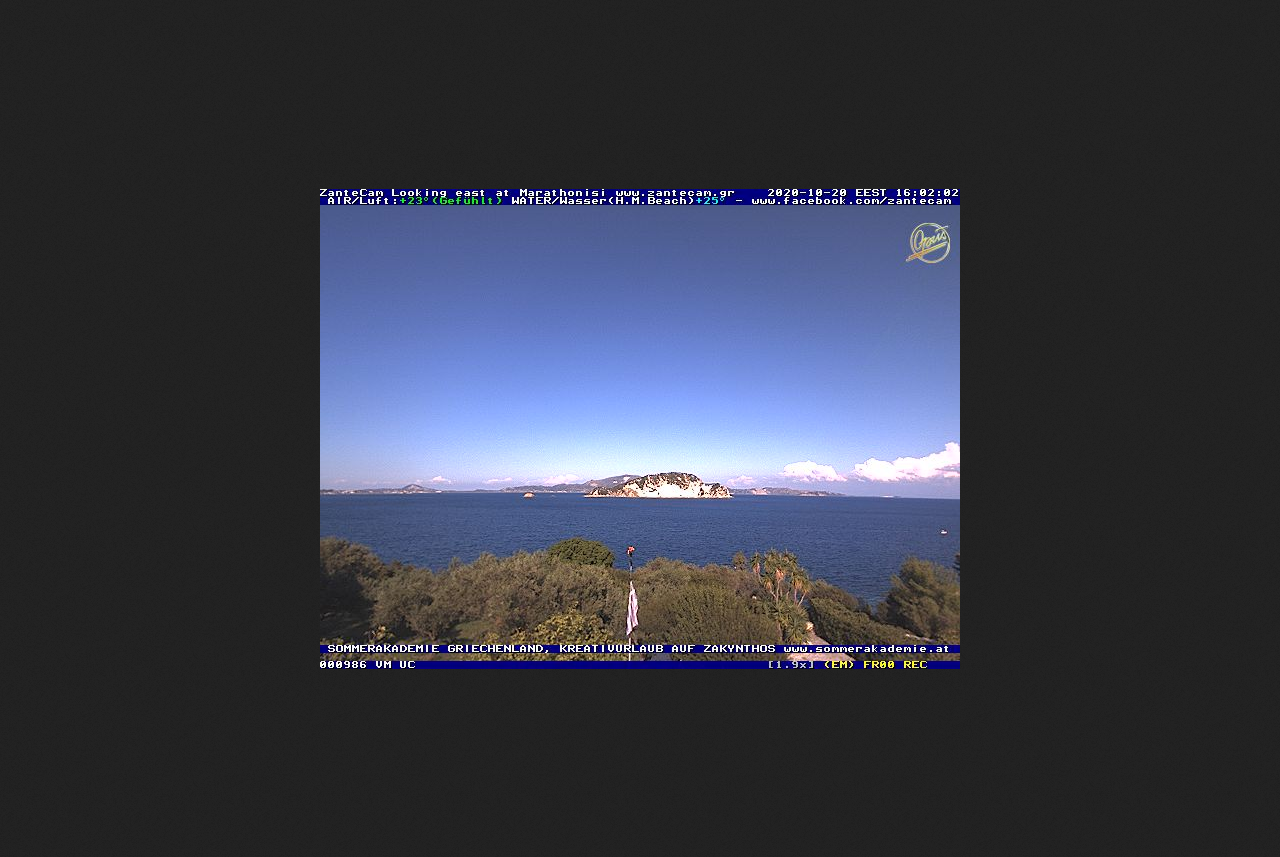no: (620, 582, 647, 637)
